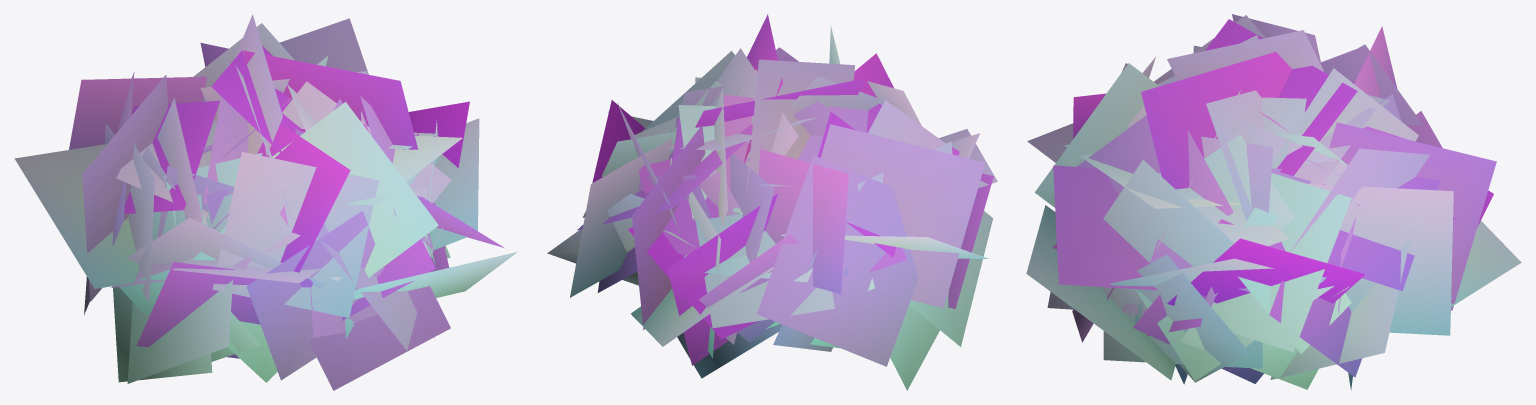
The model's file is bush_a.glb.
3 views of the same model, side by side, from view 1: azimuth 30°, elevation 25°; view 2: azimuth 150°, elevation 25°; view 3: azimuth 270°, elevation 25° (orthographic). The views are drawn at different scales.
Visible parts, largest first — view 1: bush_a; view 2: bush_a; view 3: bush_a.
Boxes of the visible parts, x1=… form: bush_a: x1=14, y1=14, x2=517, y2=390; bush_a: x1=547, y1=14, x2=997, y2=390; bush_a: x1=1026, y1=14, x2=1521, y2=390.
Bounding box in the file's own units: 2 × 1.57 × 2.07.
